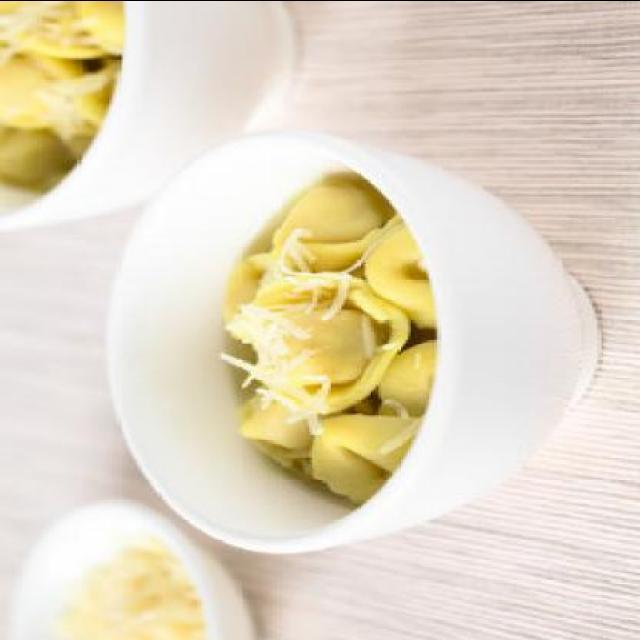Tortellini in broth: (206, 176, 429, 498)
